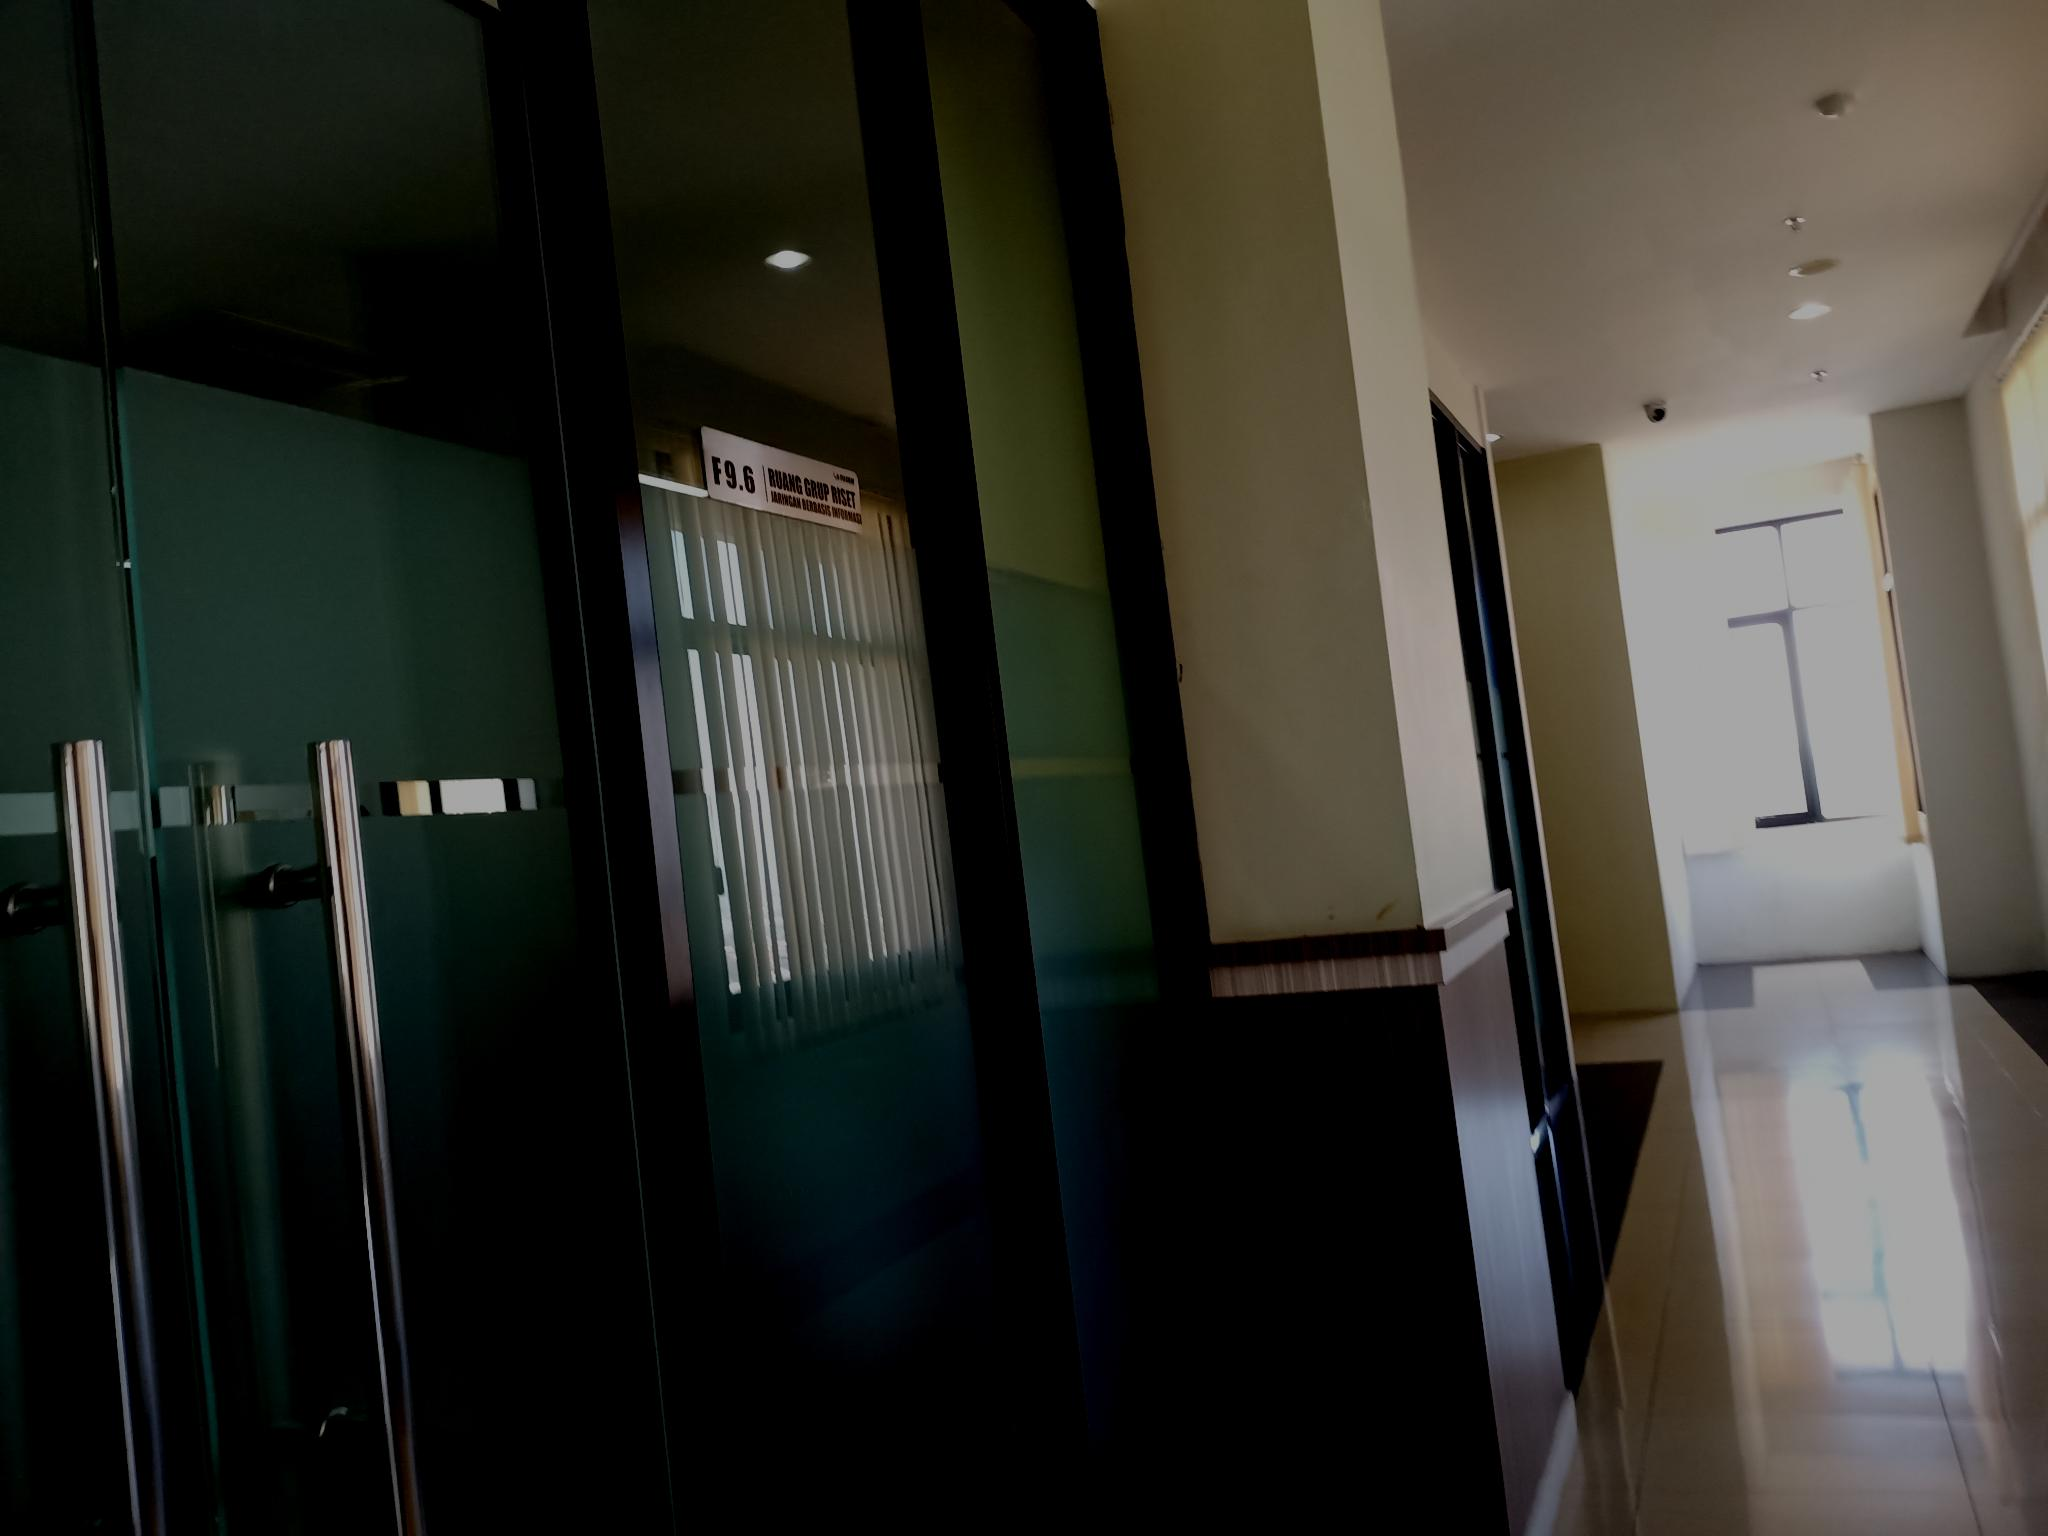plate: (698, 424, 863, 536)
